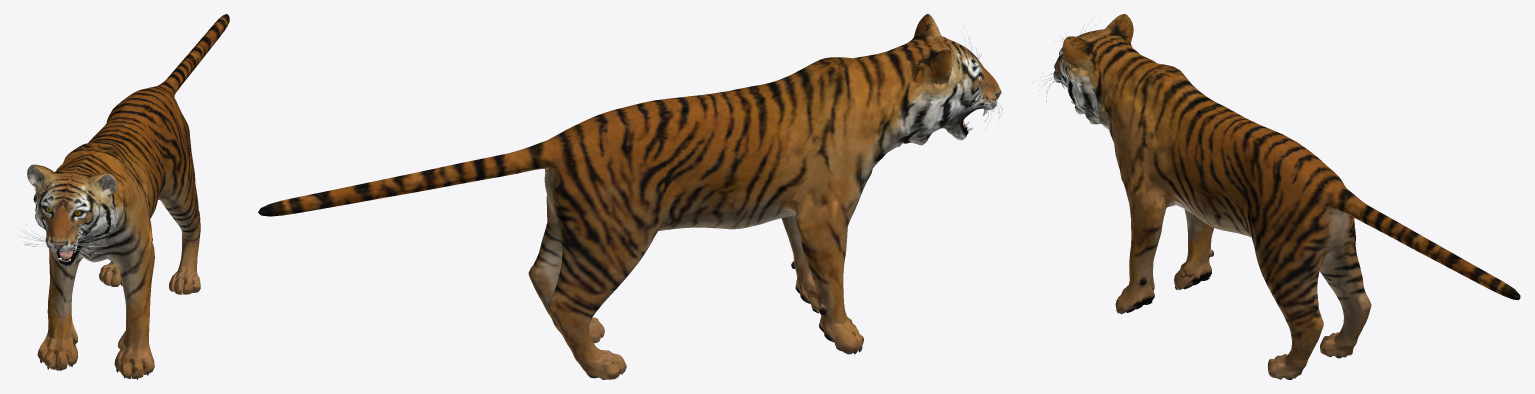
File: tiger.glb
3 renders of one model, left to right at view 1: azimuth 30°, elevation 25°; view 2: azimuth 150°, elevation 25°; view 3: azimuth 270°, elevation 25°, orthographic. The views are drawn at different scales.
Visible parts, largest first — view 1: Object_2; view 2: Object_2; view 3: Object_2.
Boxes of the visible parts, left/top/right/bottom form: Object_2: left=15, top=14, right=229, bottom=379; Object_2: left=258, top=14, right=1002, bottom=379; Object_2: left=1032, top=14, right=1520, bottom=379.
Size of the model in its own units: 3686 by 2028 by 3639.
Materials: 1 (1 with a texture image).
